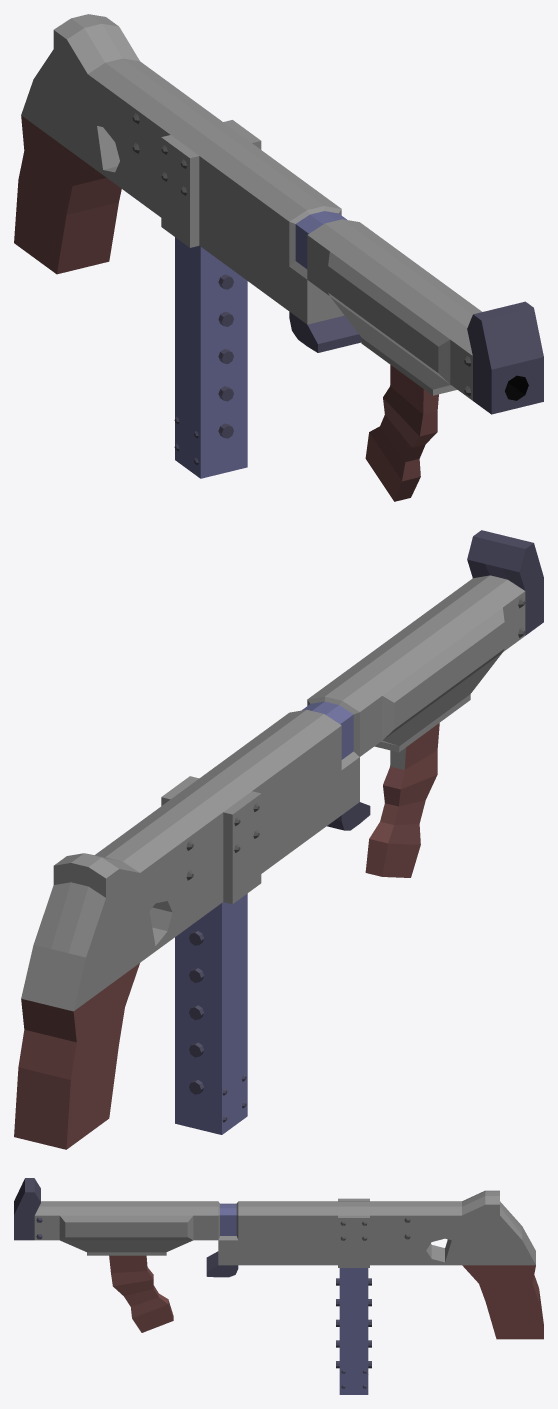
File: SMG.fbx
The picture shows the model from 3 angles, top to bottom: view 1: azimuth 30°, elevation 25°; view 2: azimuth 150°, elevation 25°; view 3: azimuth 270°, elevation 25°; orthographic projection. The views are drawn at different scales.
Visible parts, largest first — view 1: SMG_2; view 2: SMG_2; view 3: SMG_2.
Part boxes in pixels (bbox=[...]): SMG_2: bbox=[14, 14, 543, 501]; SMG_2: bbox=[14, 530, 543, 1149]; SMG_2: bbox=[14, 1178, 543, 1394].
Bounding box in the file's own units: 0.0385 × 0.1755 × 0.4144.
